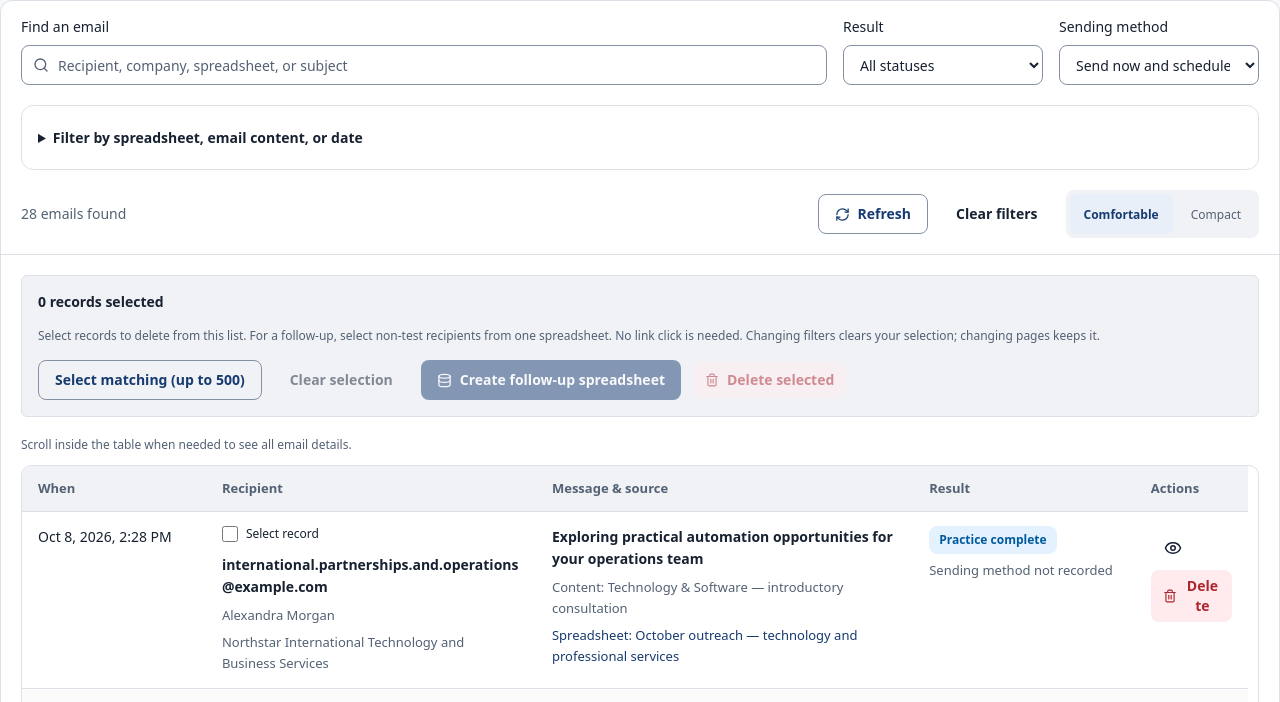
Test case: readable history › deletes one filtered history entry only after confirmation and removes it from the list
The width and height of the screenshot is (1280, 702).
Type "international.partnerships" into the field named "Search history" at {"x": 424, "y": 65}, box [21, 45, 827, 85]
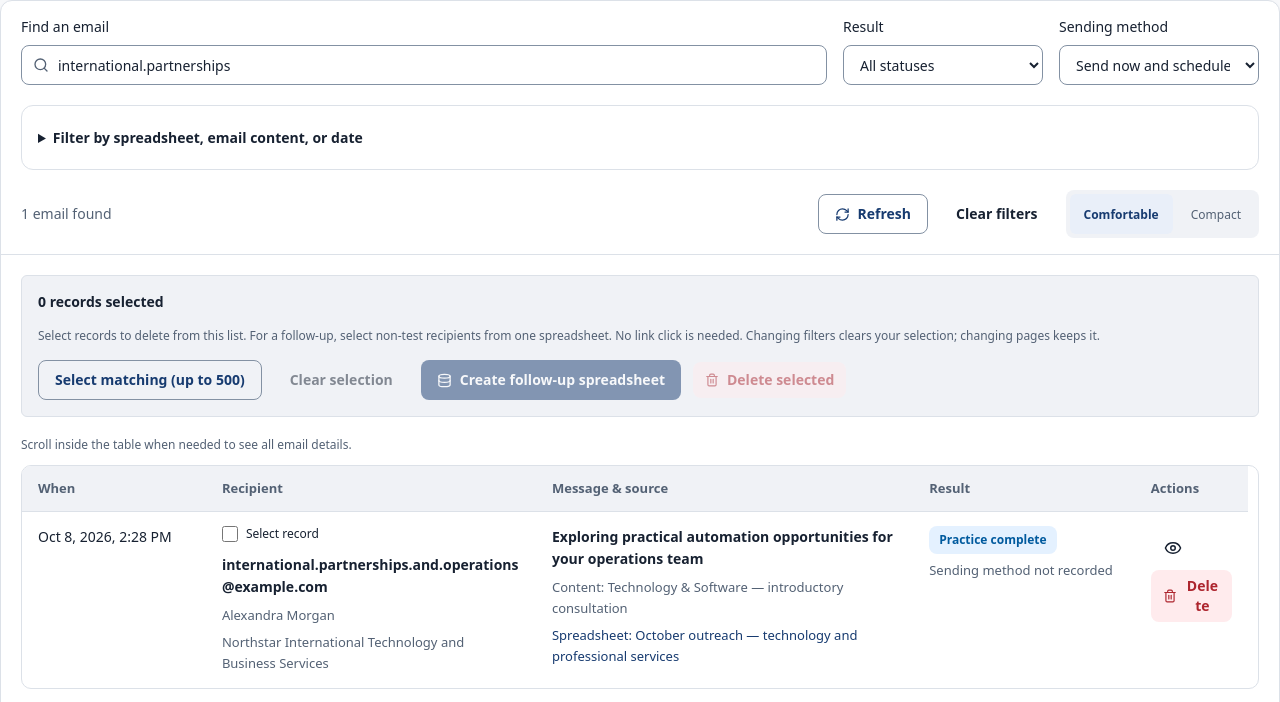
Click the button "Delete" at {"x": 1191, "y": 596}, box [1151, 570, 1232, 622]
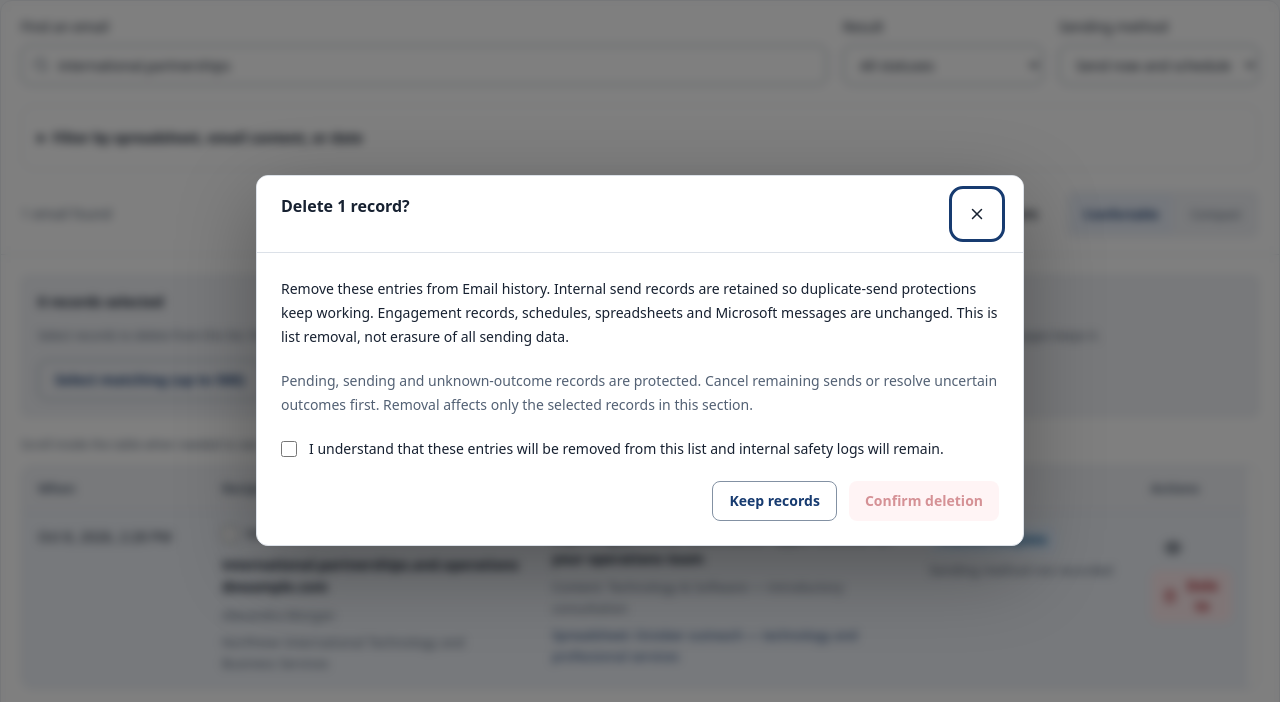
Check: the button "Confirm deletion" is disabled, box [849, 480, 999, 520]
Click the checkbox at {"x": 289, "y": 448}, box [281, 440, 297, 456]
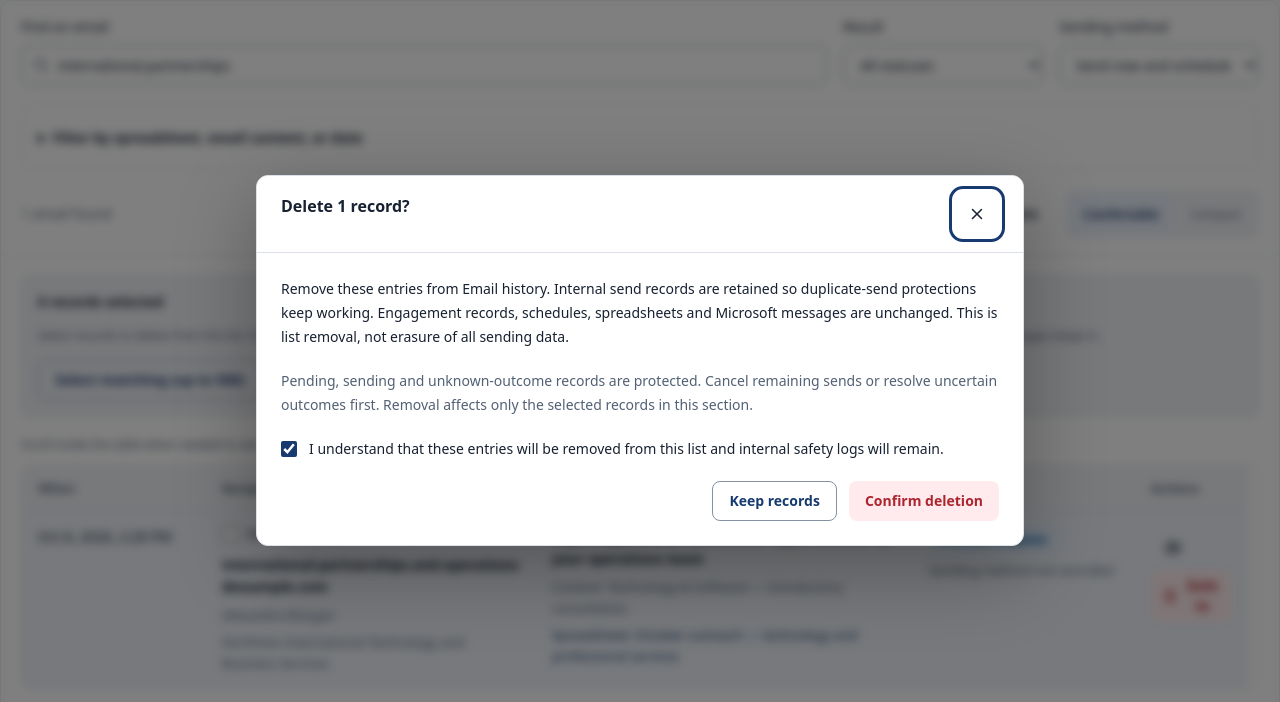
Click the button "Confirm deletion" at {"x": 924, "y": 500}, box [849, 480, 999, 520]
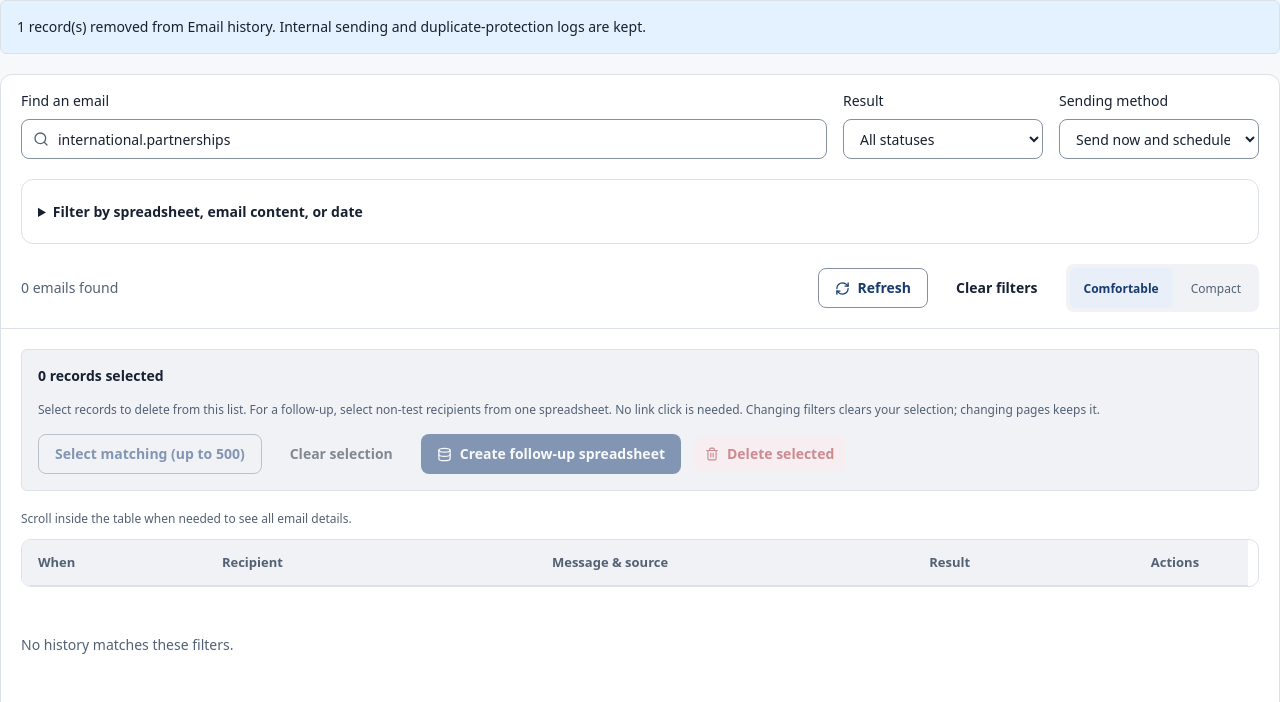
Check: the text "0 emails found" is shown, box [21, 278, 118, 298]
